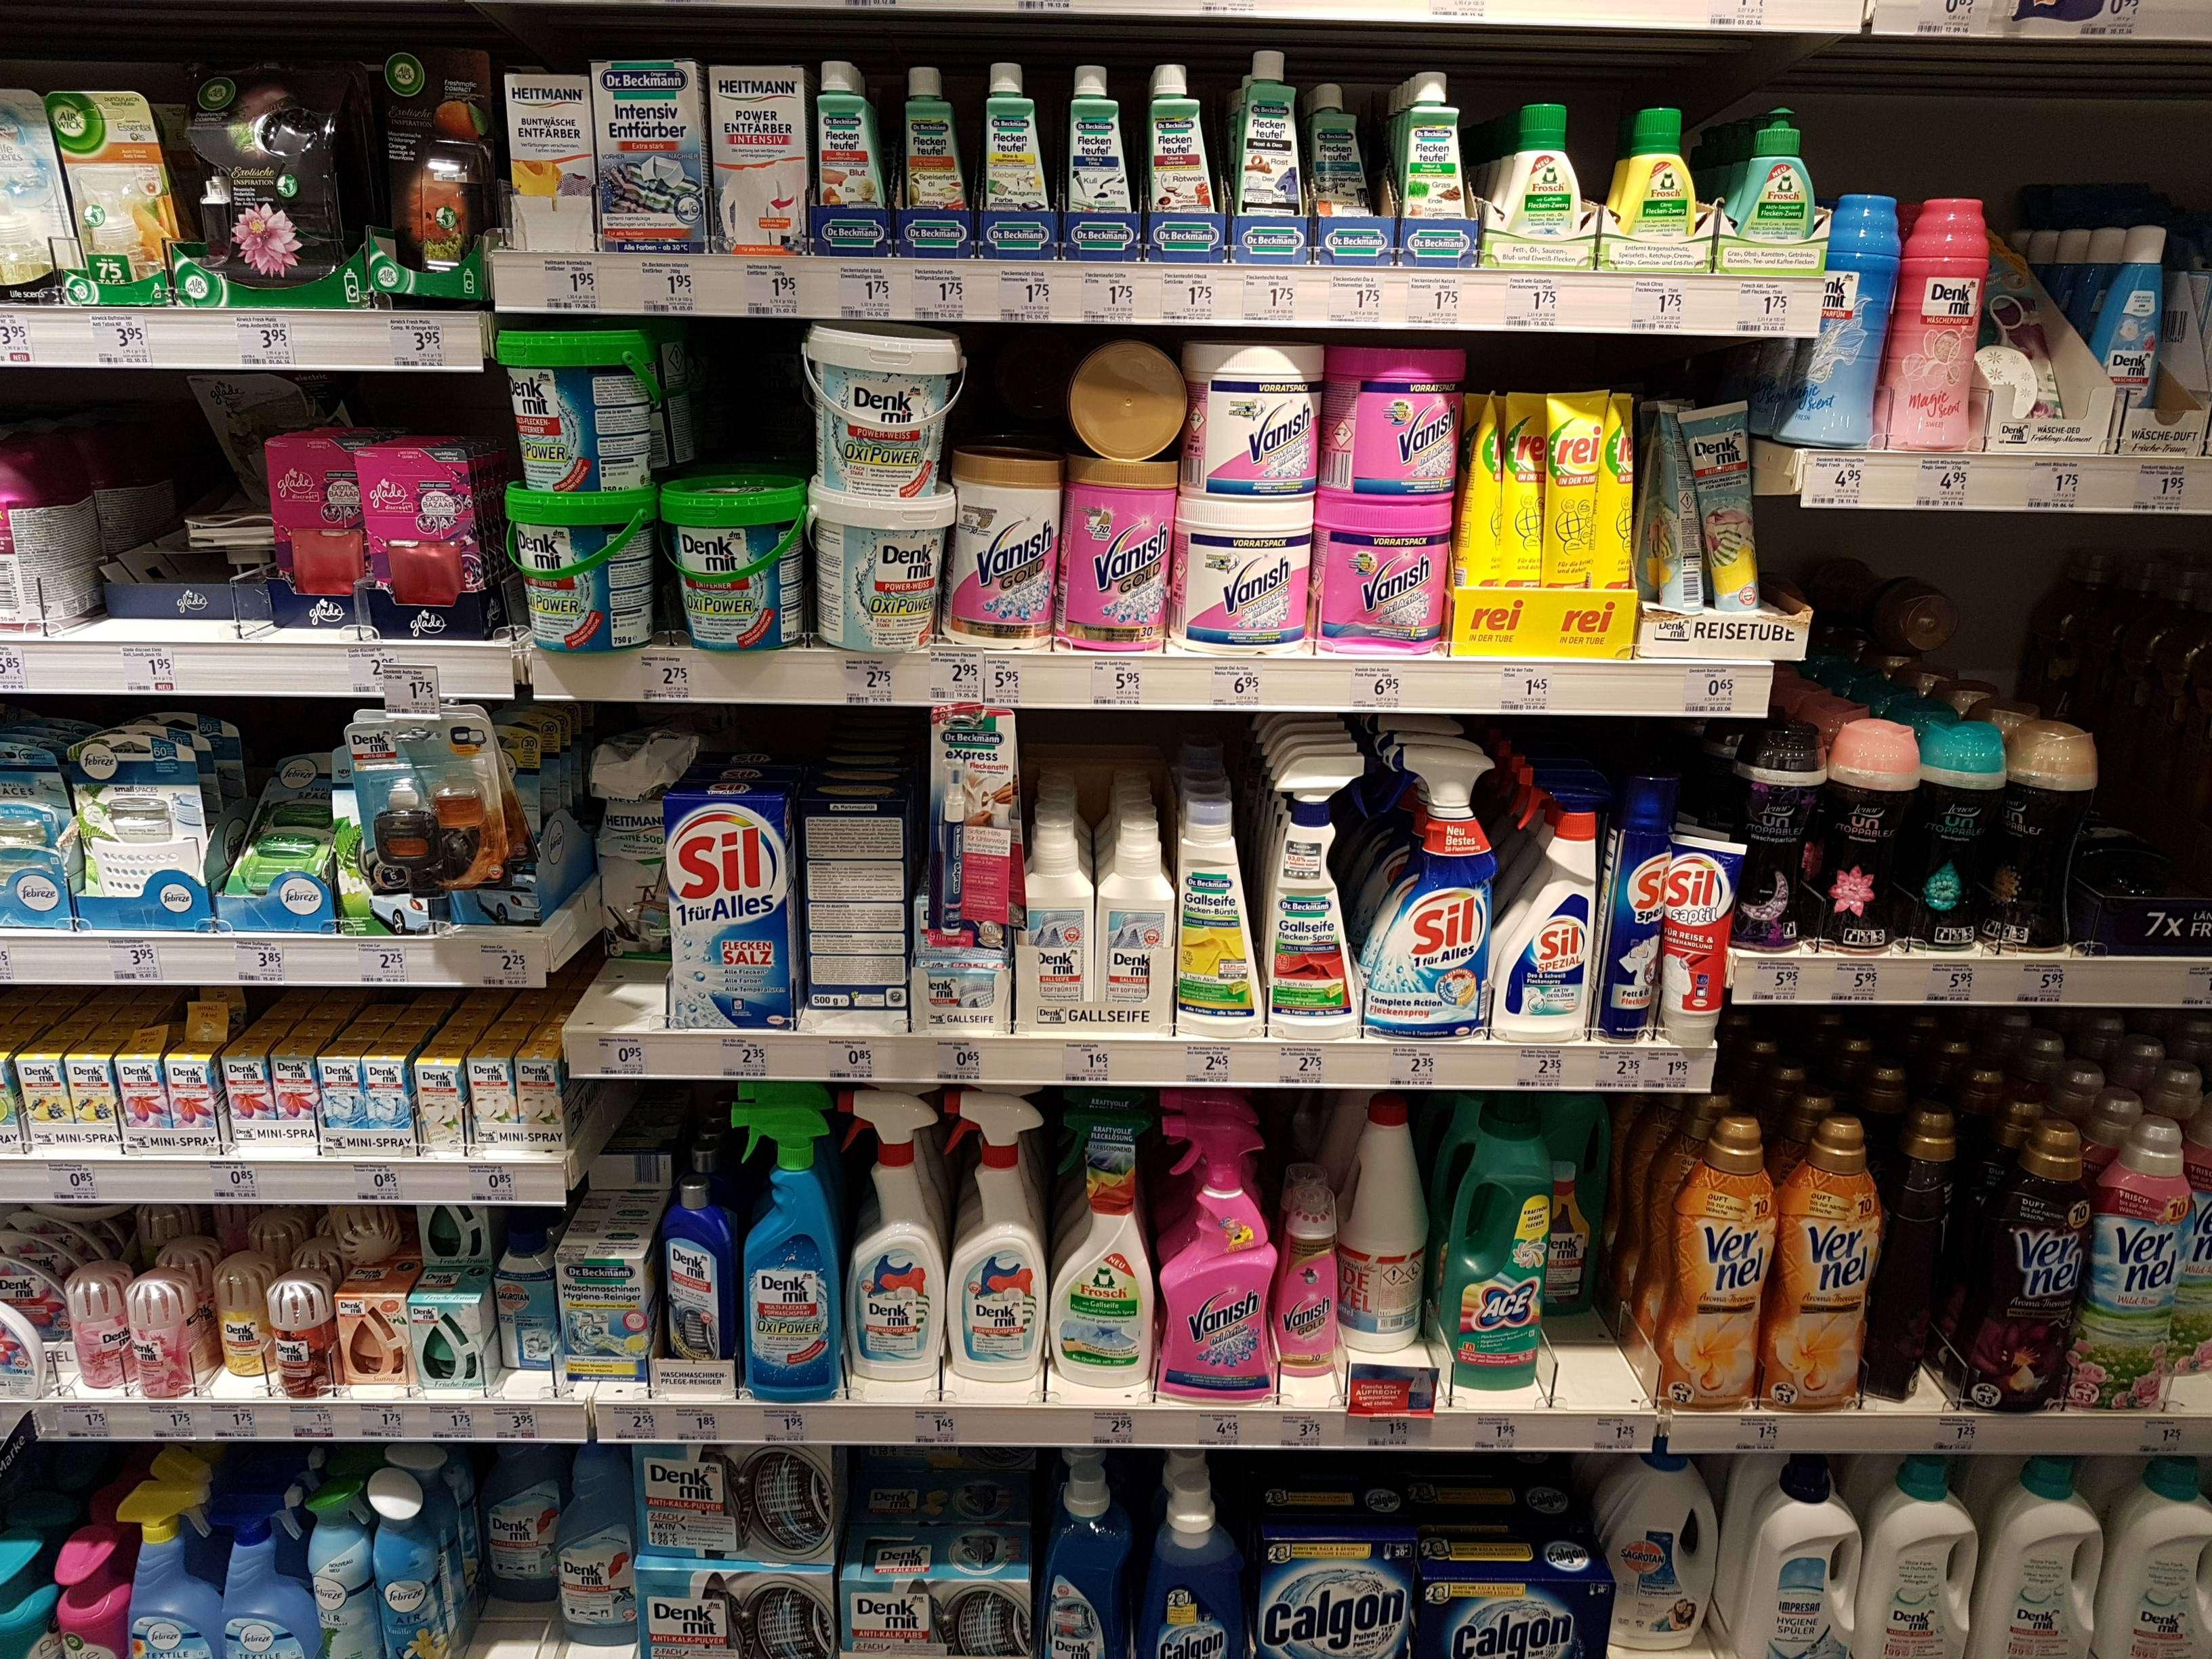misalignment: (235, 737, 334, 913), (1062, 336, 1186, 458), (146, 497, 272, 594), (1298, 82, 1366, 234), (599, 720, 690, 814)
